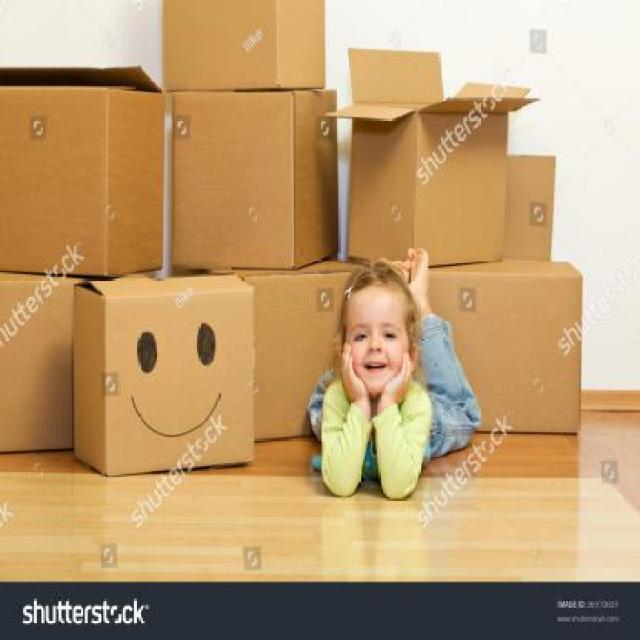box: (346, 55, 530, 263), (77, 282, 256, 478), (0, 76, 163, 276), (167, 95, 340, 272), (0, 261, 153, 458), (420, 259, 584, 440), (235, 253, 386, 443), (162, 0, 326, 88), (504, 150, 552, 266)
